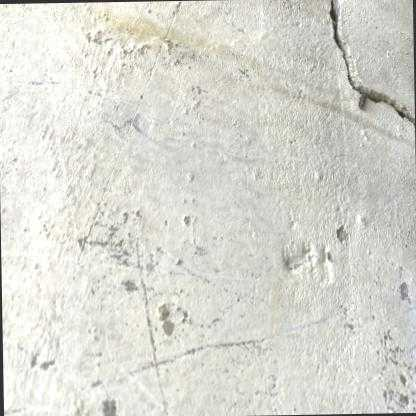crack: (329, 0, 415, 128)
